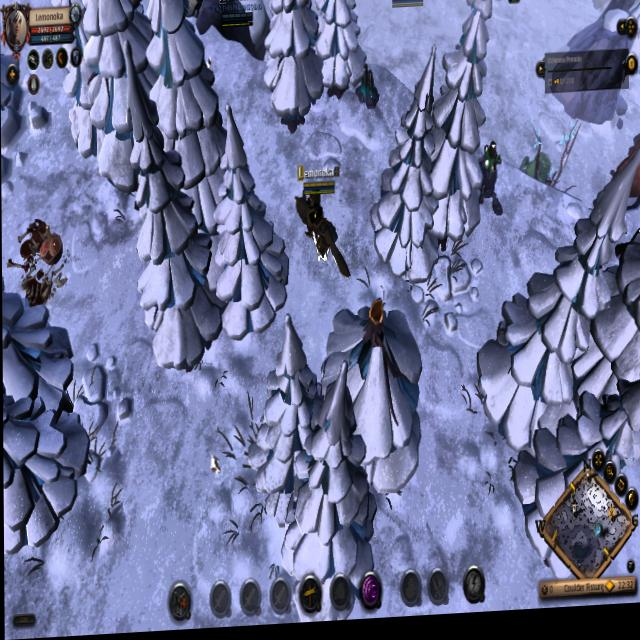ore tier 4: (354, 67, 380, 117)
